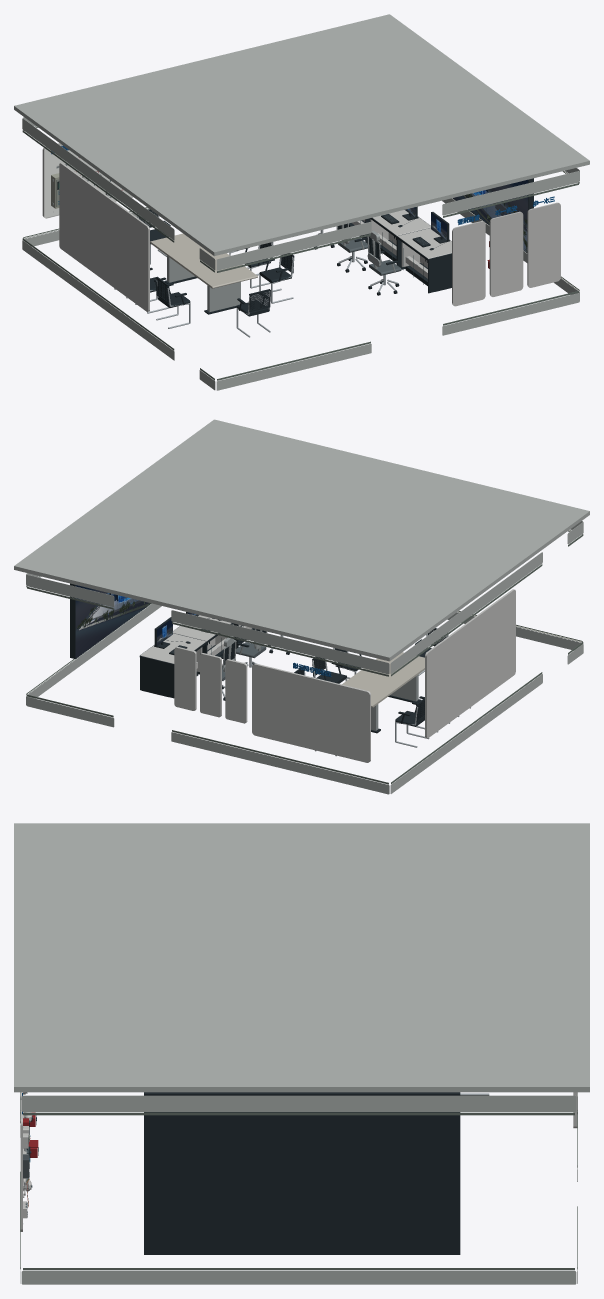
Rendered from fire-room-lod0.glb.
The picture shows the model from 3 angles, top to bottom: view 1: azimuth 30°, elevation 25°; view 2: azimuth 150°, elevation 25°; view 3: azimuth 270°, elevation 25°; orthographic projection. The views are drawn at different scales.
Parts seen in each view (by area): view 1: V6_FC_PAINTED, V6_FC_DARK, V6_FC_METAL, V6_TEX_screen-main, V6_TEX_board-01; view 2: V6_FC_PAINTED, V6_FC_DARK, V6_TEX_screen-main, V6_FC_METAL; view 3: V6_FC_PAINTED, V6_FC_DARK.
Boxes of the visible parts, bbox=[...] form: V6_FC_PAINTED: bbox=[14, 14, 589, 390]; V6_FC_DARK: bbox=[22, 126, 579, 380]; V6_FC_METAL: bbox=[52, 179, 418, 337]; V6_TEX_screen-main: bbox=[453, 179, 528, 252]; V6_TEX_board-01: bbox=[44, 144, 132, 217]; V6_FC_PAINTED: bbox=[14, 419, 589, 794]; V6_FC_DARK: bbox=[26, 530, 583, 784]; V6_TEX_screen-main: bbox=[75, 585, 150, 658]; V6_FC_METAL: bbox=[197, 634, 470, 756]; V6_FC_PAINTED: bbox=[14, 823, 589, 1284]; V6_FC_DARK: bbox=[20, 1092, 577, 1270].
Size of the model in its own units: 8.28 by 3.08 by 7.65.
20 materials, 13 textured.
